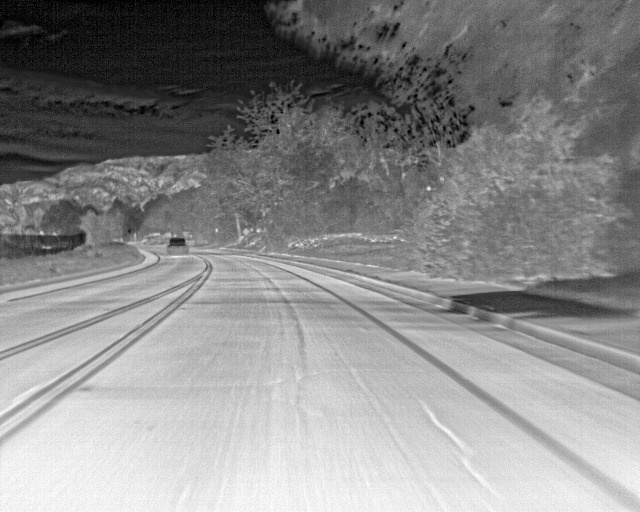vehicle: (167, 234, 192, 254)
